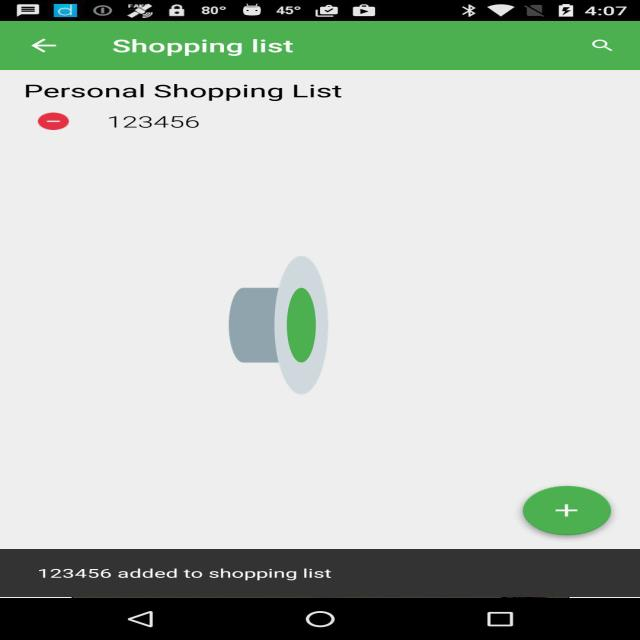social proof: (229, 197, 328, 453)
